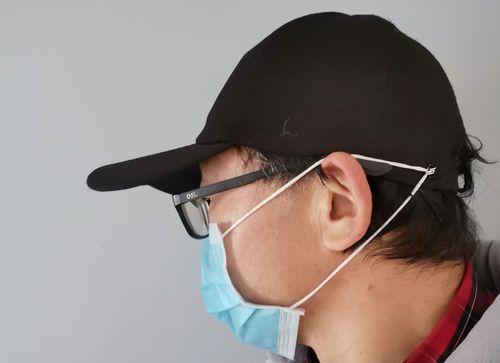mask: (170, 163, 364, 358)
